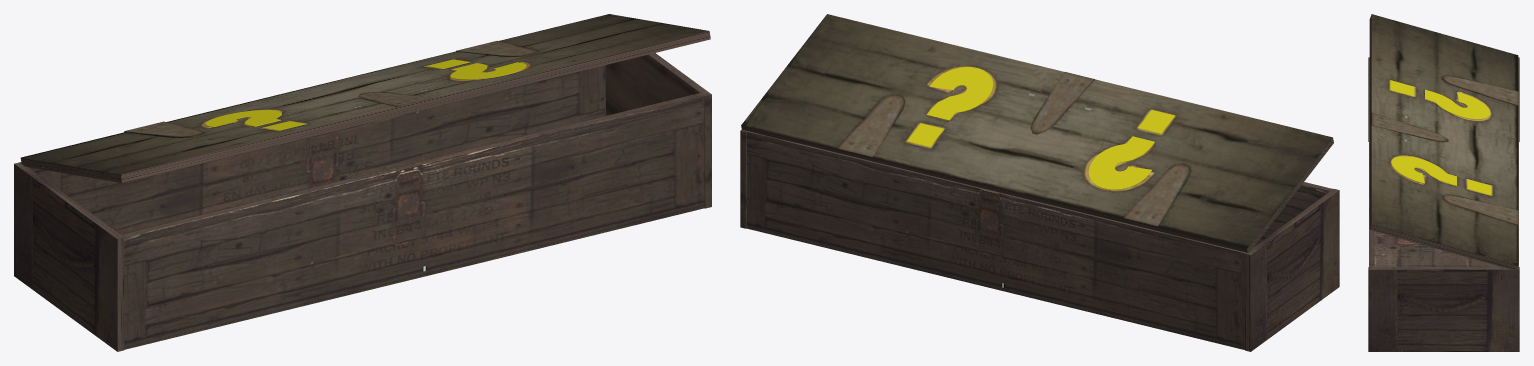
File: mystery_box_3d.glb
3 views of the same model, side by side, from view 1: azimuth 30°, elevation 25°; view 2: azimuth 150°, elevation 25°; view 3: azimuth 270°, elevation 25° (orthographic). The views are drawn at different scales.
Visible parts, largest first — view 1: box, box cover; view 2: box cover, box; view 3: box cover, box.
Boxes of the visible parts, x1=… form: box: x1=14, y1=53, x2=711, y2=351; box cover: x1=20, y1=14, x2=710, y2=182; box cover: x1=741, y1=14, x2=1333, y2=252; box: x1=740, y1=129, x2=1339, y2=351; box cover: x1=1369, y1=14, x2=1518, y2=270; box: x1=1368, y1=57, x2=1519, y2=351.
Size of the model in its own units: 6.63 by 1.86 by 2.
3 materials, 2 textured.
